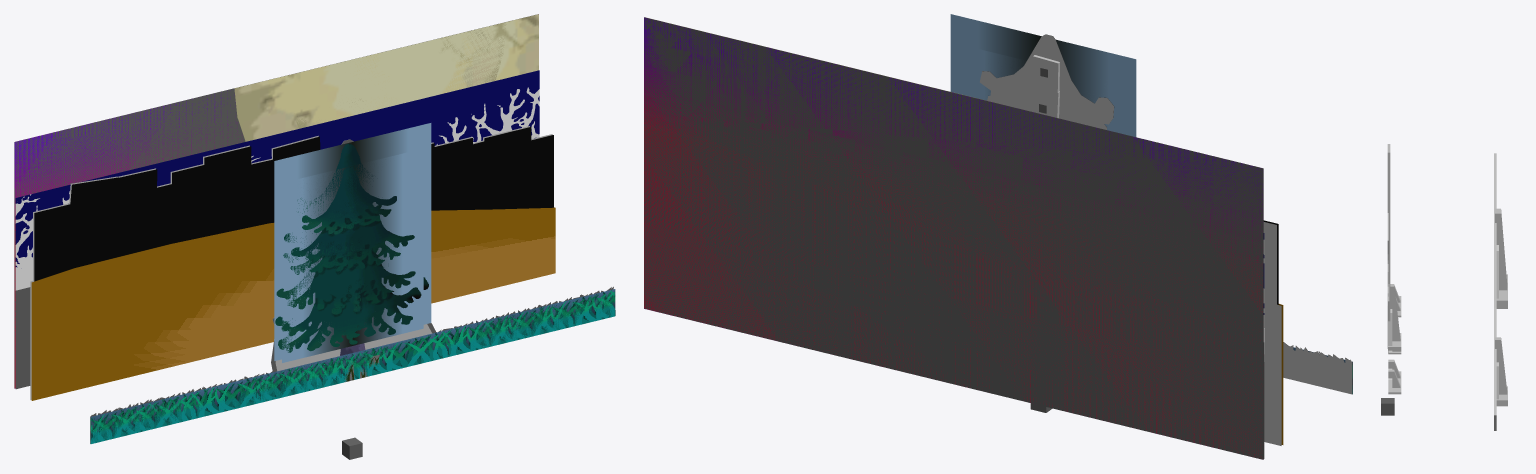
The model's file is stg_04_1_bake_split.dae.
3 views of the same model, side by side, from view 1: azimuth 30°, elevation 25°; view 2: azimuth 150°, elevation 25°; view 3: azimuth 270°, elevation 25° (orthographic). The views are drawn at different scales.
Parts seen in each view (by area): view 1: polySurface963_q00142, pCylinder27_q00134, pCylinder29_q00031, pPlane364_q772, pCylinder29_q00031_VC, polySurface953_q773_part1_VC, polySurface995_q00074, pCylinder29_q00014_VC, polySurface995_q00086, pCylinder27_q00143, pPlane450_q00144, pCylinder29_q00014 (+26 smaller); view 2: pPlane364_q772, pPlane450_q00144, pCylinder29_q00014_VC, polySurface1273_q00013, pCylinder29_q00031_VC, polySurface963_q00111, polySurface1271_q00093, polySurface1254_q00005, polySurface953_q00113; view 3: polySurface1250_q00108, polySurface1254_q00005, pCube24_q00099, pCube24_q00102, pCube24, pCube94, pCube22_q00097, pCube24_q00019, pCube23_q00098.
Part boxes in pixels (x1=…): polySurface963_q00142: x1=31, y1=207, x2=555, y2=400; pCylinder27_q00134: x1=234, y1=24, x2=506, y2=141; pCylinder29_q00031: x1=283, y1=167, x2=421, y2=352; pPlane364_q772: x1=14, y1=14, x2=535, y2=388; pCylinder29_q00031_VC: x1=282, y1=148, x2=423, y2=362; polySurface953_q773_part1_VC: x1=15, y1=70, x2=539, y2=267; polySurface995_q00074: x1=91, y1=290, x2=614, y2=443; pCylinder29_q00014_VC: x1=274, y1=123, x2=431, y2=360; polySurface995_q00086: x1=90, y1=292, x2=615, y2=443; pCylinder27_q00143: x1=295, y1=14, x2=538, y2=128; pPlane450_q00144: x1=14, y1=92, x2=242, y2=388; pCylinder29_q00014: x1=275, y1=143, x2=428, y2=349; pPlane364_q772: x1=644, y1=17, x2=1263, y2=459; pPlane450_q00144: x1=644, y1=17, x2=1263, y2=459; pCylinder29_q00014_VC: x1=950, y1=14, x2=1136, y2=136; polySurface1273_q00013: x1=980, y1=34, x2=1113, y2=126; pCylinder29_q00031_VC: x1=960, y1=44, x2=1126, y2=134; polySurface963_q00111: x1=1264, y1=304, x2=1281, y2=445; polySurface1271_q00093: x1=1283, y1=345, x2=1352, y2=392; polySurface1254_q00005: x1=1032, y1=55, x2=1059, y2=117; polySurface953_q00113: x1=1263, y1=222, x2=1276, y2=309; polySurface1250_q00108: x1=1494, y1=153, x2=1496, y2=430; polySurface1254_q00005: x1=1387, y1=144, x2=1390, y2=348; pCube24_q00099: x1=1495, y1=208, x2=1507, y2=290; pCube24_q00102: x1=1495, y1=337, x2=1507, y2=394; pCube24: x1=1390, y1=284, x2=1400, y2=341; pCube94: x1=1381, y1=398, x2=1394, y2=415; pCube22_q00097: x1=1496, y1=274, x2=1507, y2=308; pCube24_q00019: x1=1390, y1=284, x2=1399, y2=341; pCube23_q00098: x1=1496, y1=245, x2=1498, y2=298.
Bounding box in the file's own units: 40.13 × 23.5 × 10.5.
